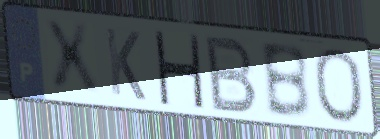B: (204, 33, 260, 116), (257, 41, 313, 122)
H: (151, 27, 206, 111)
K: (102, 24, 148, 104)
O: (311, 46, 366, 126)
X: (40, 19, 103, 98)
